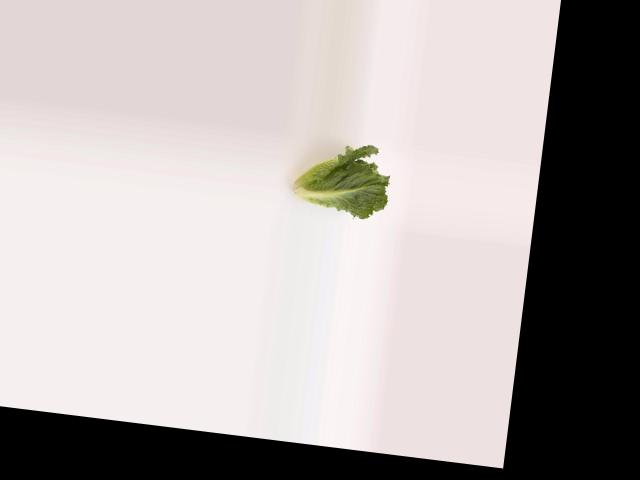lettuce: (279, 138, 396, 224)
